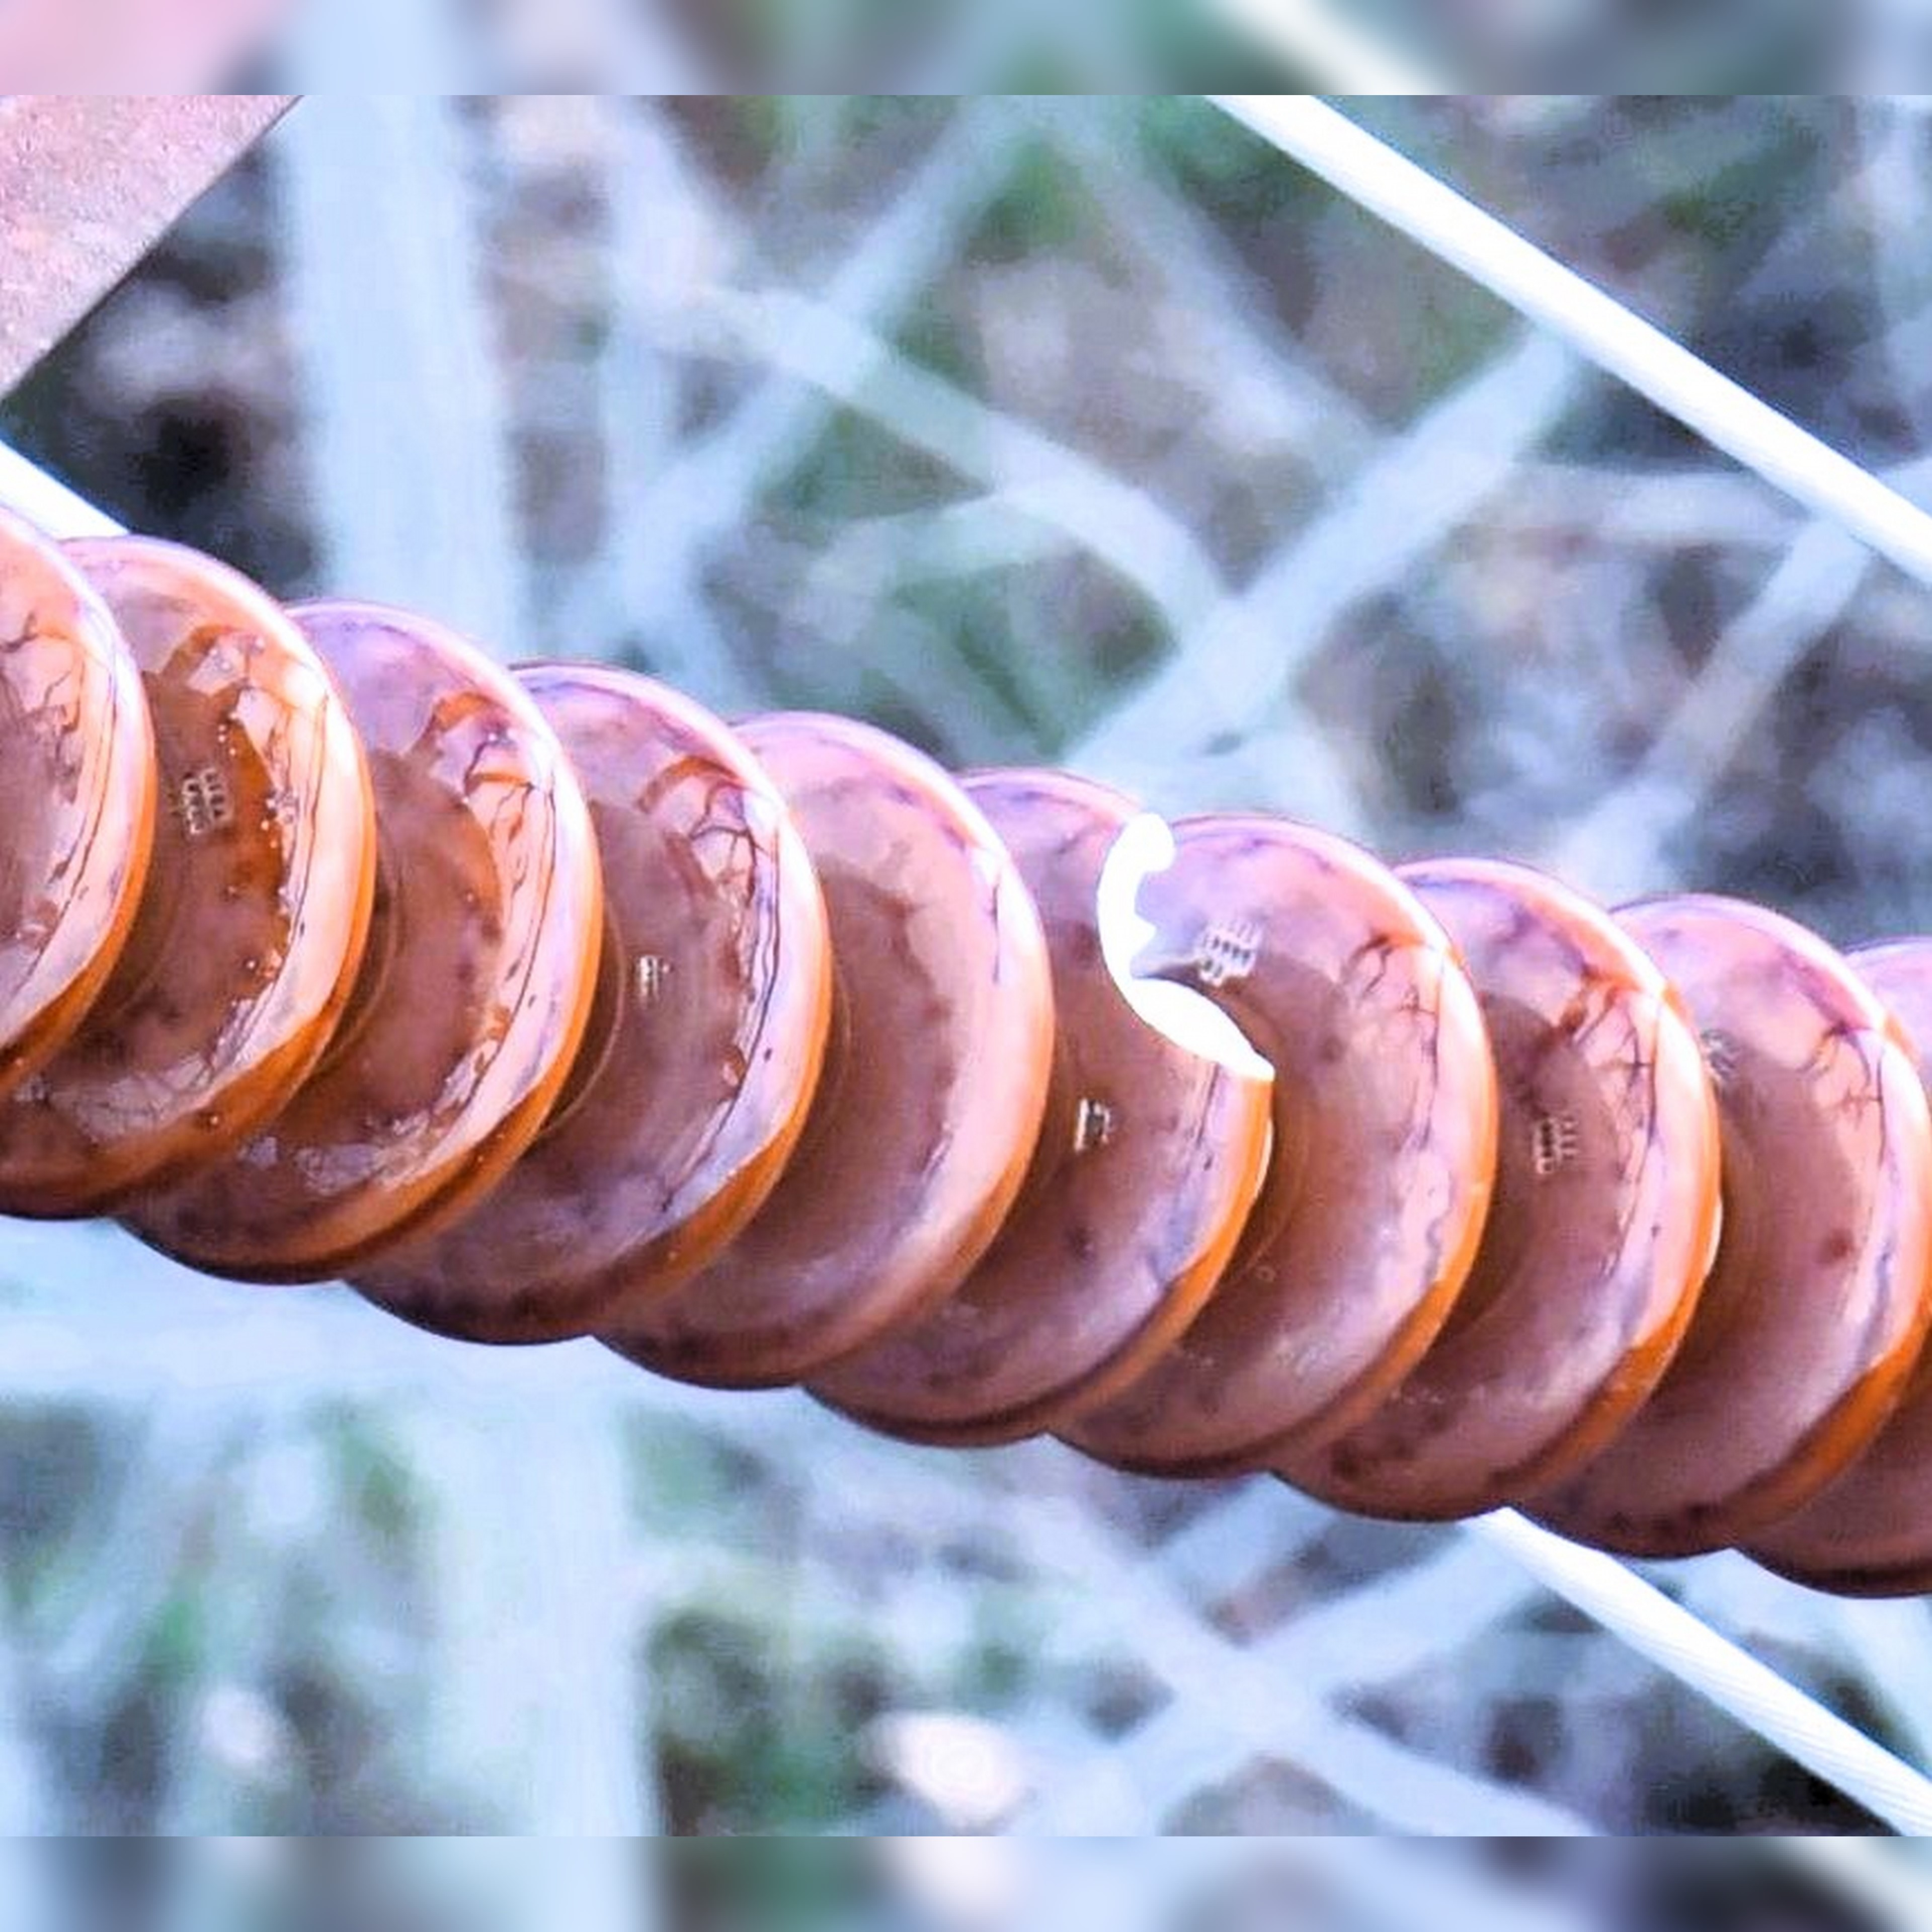insulator breakage: (837, 770, 1306, 1454)
